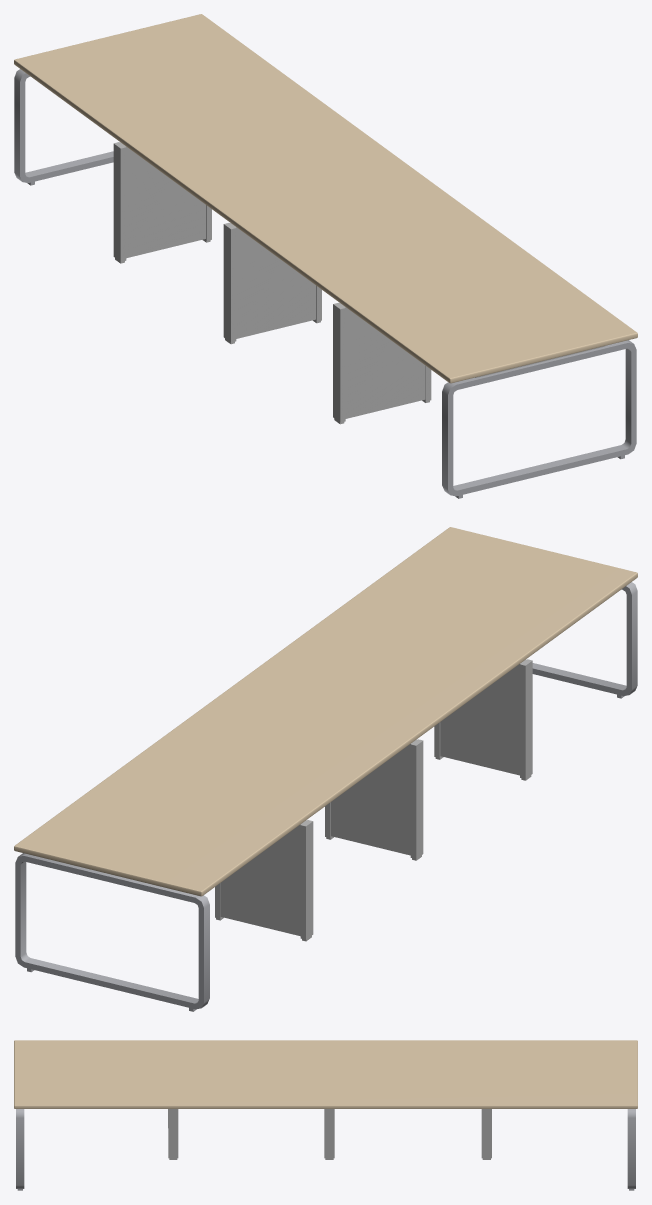
Rendered from table2.fbx.
3 views of the same model, one above another, from view 1: azimuth 30°, elevation 25°; view 2: azimuth 150°, elevation 25°; view 3: azimuth 270°, elevation 25° (orthographic). The views are drawn at different scales.
Parts seen in each view (by area): view 1: table_02; view 2: table_02; view 3: table_02.
Boxes of the visible parts, x1,y1,x2,y2 form: table_02: [14, 14, 637, 498]; table_02: [14, 527, 637, 1011]; table_02: [14, 1040, 637, 1190].
Bounding box in the file's own units: 125 × 78.33 × 497.
